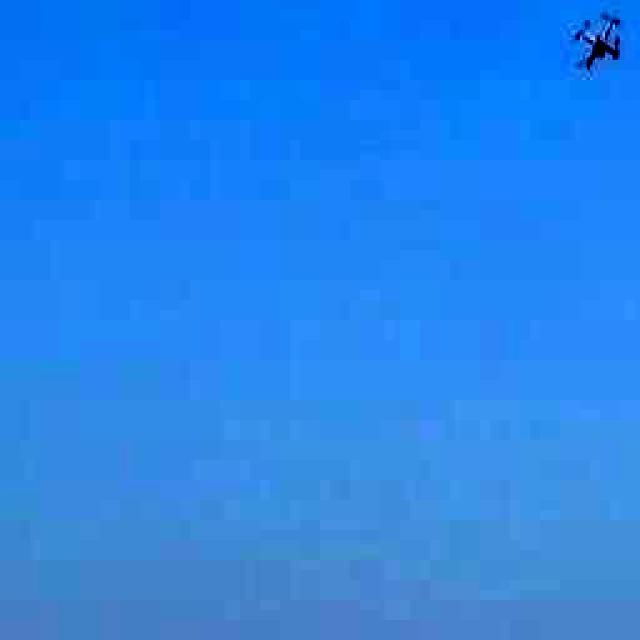bird: (555, 2, 640, 75)
